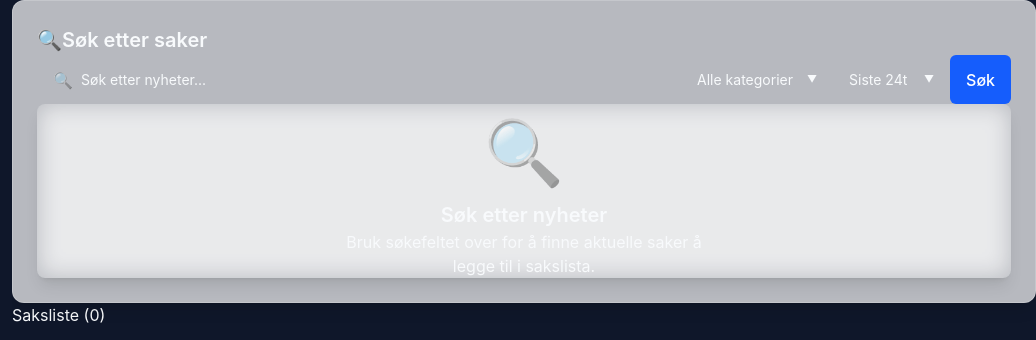
Scenario: Search to Saksliste Integration › search flow › shows scores for search results
// 'exclusive' appears in both result descriptions
In the field with placeholder "Søk etter nyheter...": (359, 80) left=37, top=55, right=681, bottom=104, type "exclusive"
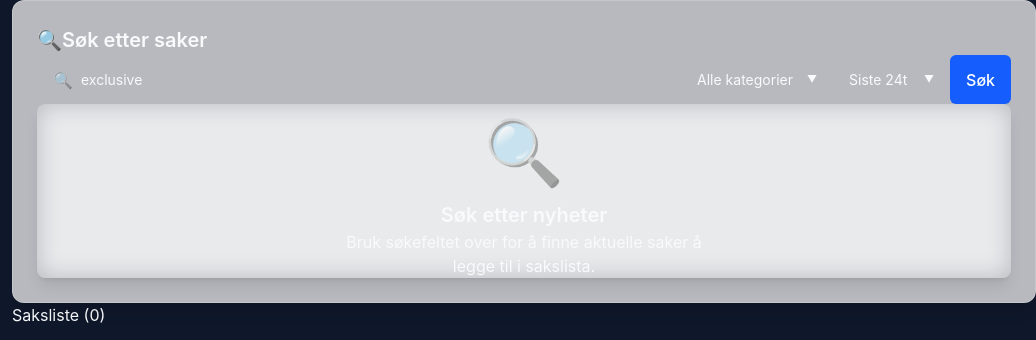
Click the button "Søk": click(980, 80) left=950, top=55, right=1011, bottom=104
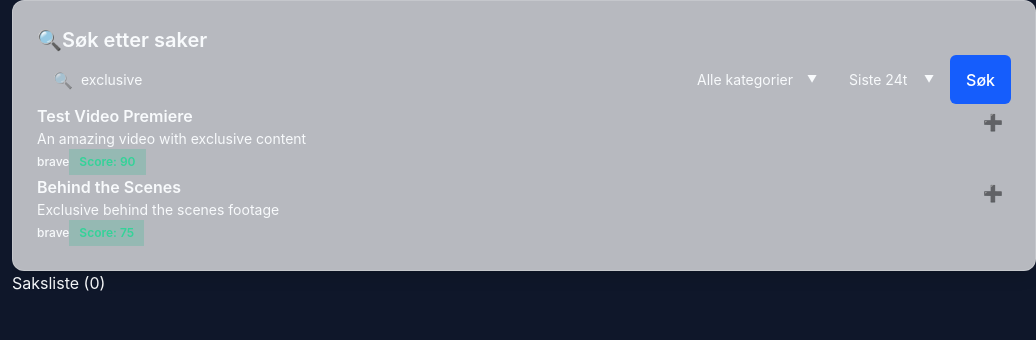
Expected: the text "Score: 90" is shown, left=69, top=149, right=146, bottom=175
Expected: the text "Score: 75" is shown, left=69, top=220, right=144, bottom=246
